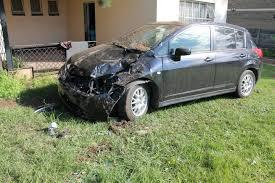bonnet-dent: (63, 47, 130, 72)
fender-dent: (118, 59, 158, 83)
front-bumper-dent: (59, 74, 105, 104)
